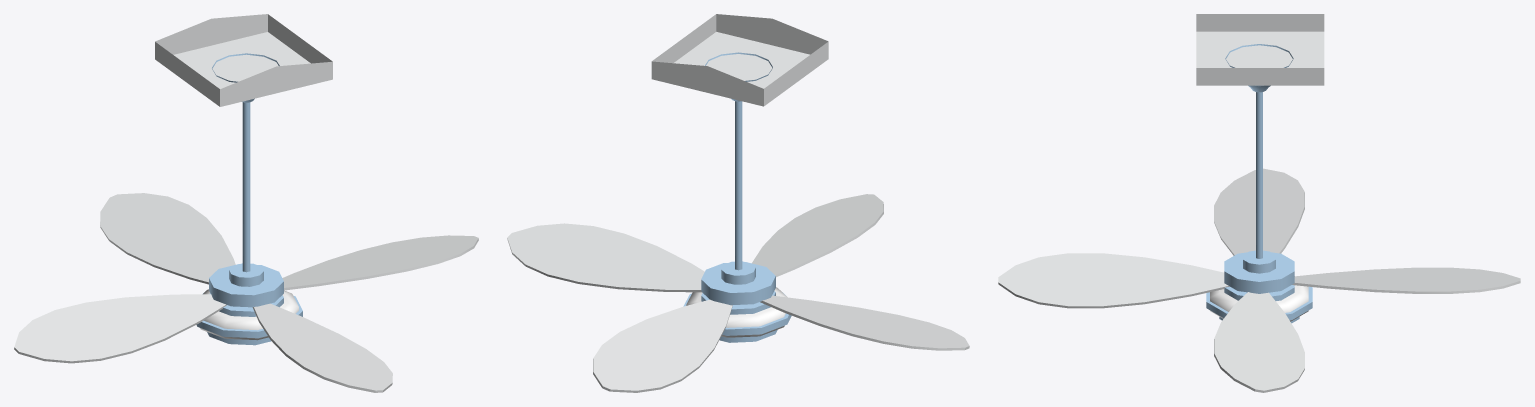
The model's file is M_Dogfengshan01.FBX.
The picture shows the model from 3 angles, left to right: view 1: azimuth 30°, elevation 25°; view 2: azimuth 150°, elevation 25°; view 3: azimuth 270°, elevation 25°; orthographic projection.
Parts seen in each view (by area): view 1: M_Dogfengshan01_02, M_Dogfengshan01_04, M_Dogfengshan01_01, M_Dogfengshan01_03; view 2: M_Dogfengshan01_02, M_Dogfengshan01_04, M_Dogfengshan01_01, M_Dogfengshan01_03; view 3: M_Dogfengshan01_02, M_Dogfengshan01_04, M_Dogfengshan01_01, M_Dogfengshan01_03.
Boxes of the visible parts, x1,y1,x2,y2 form: M_Dogfengshan01_02: (14, 193, 478, 392); M_Dogfengshan01_04: (155, 14, 332, 106); M_Dogfengshan01_01: (196, 53, 302, 345); M_Dogfengshan01_03: (200, 289, 298, 340); M_Dogfengshan01_02: (507, 194, 969, 392); M_Dogfengshan01_04: (651, 14, 828, 106); M_Dogfengshan01_01: (683, 52, 791, 342); M_Dogfengshan01_03: (686, 287, 787, 337); M_Dogfengshan01_02: (998, 168, 1520, 392); M_Dogfengshan01_04: (1196, 14, 1324, 85); M_Dogfengshan01_01: (1206, 44, 1312, 323); M_Dogfengshan01_03: (1210, 285, 1308, 321).
Bounding box in the file's own units: 4.08 × 2.47 × 4.08.
